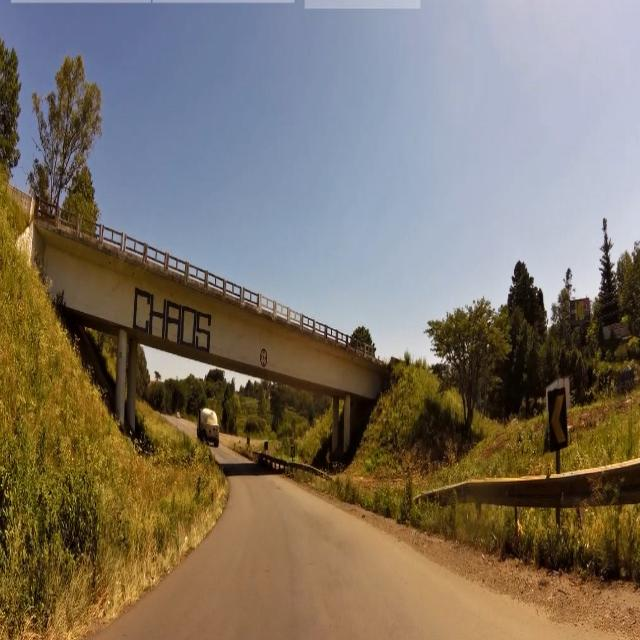Del: (549, 389, 568, 447)
